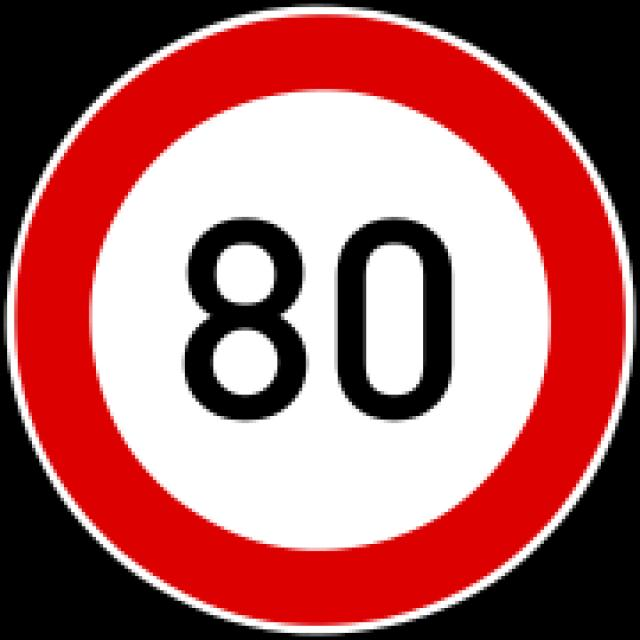Speed Limit -80-: (180, 210, 458, 419)
